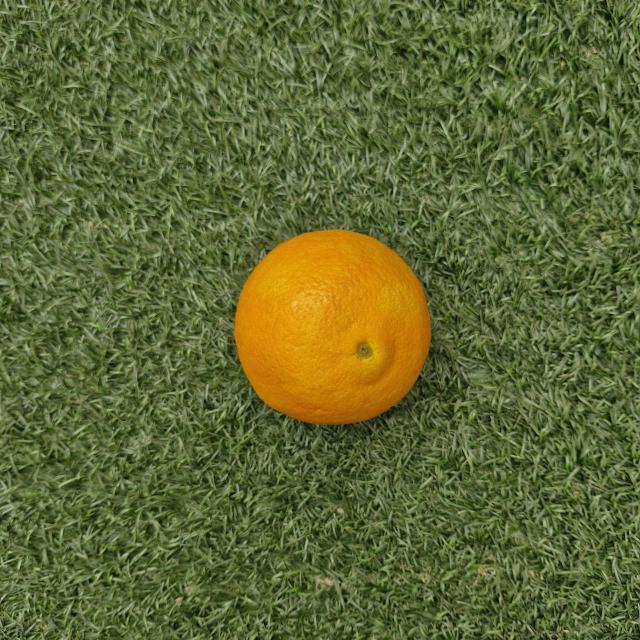food_waste: (227, 223, 445, 431)
